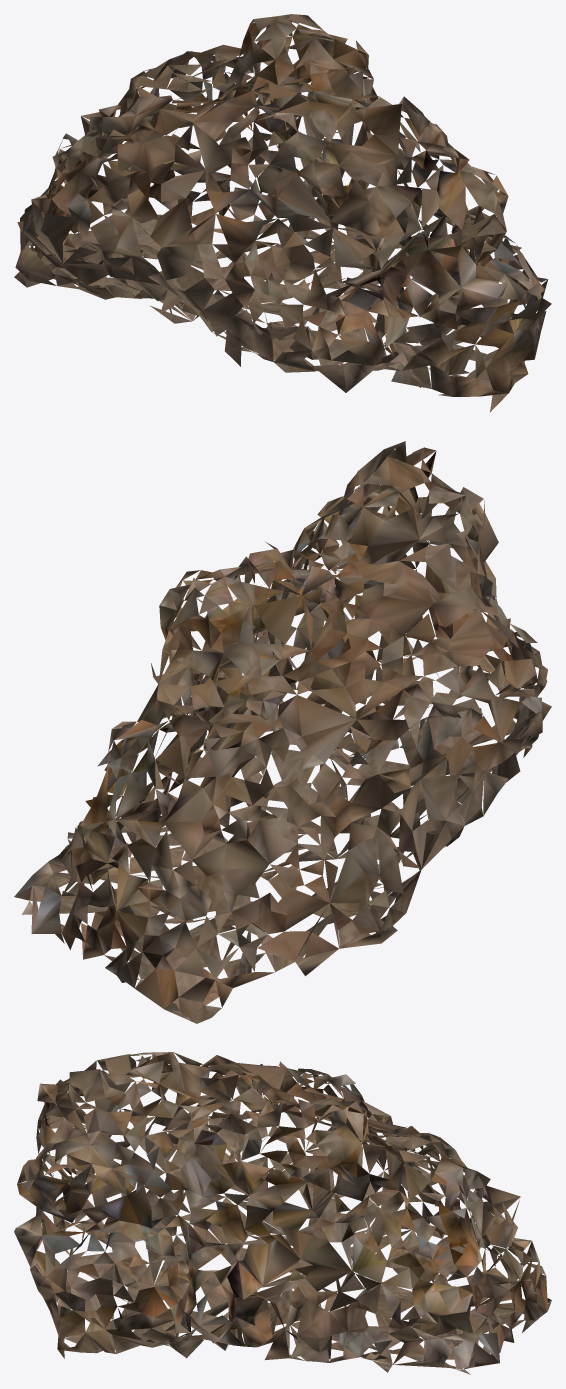
Rendered from boulder_01.glb.
3 renders of one model, top to bottom at view 1: azimuth 30°, elevation 25°; view 2: azimuth 150°, elevation 25°; view 3: azimuth 270°, elevation 25°, orthographic. The views are drawn at different scales.
Parts seen in each view (by area): view 1: CC0_boulder_01; view 2: CC0_boulder_01; view 3: CC0_boulder_01.
Boxes of the visible parts, bbox=[...] form: CC0_boulder_01: bbox=[14, 14, 551, 412]; CC0_boulder_01: bbox=[14, 441, 551, 1023]; CC0_boulder_01: bbox=[14, 1052, 551, 1374].
Bounding box in the file's own units: 1.45 × 1.16 × 2.06.
Materials: 1 (1 with a texture image).
